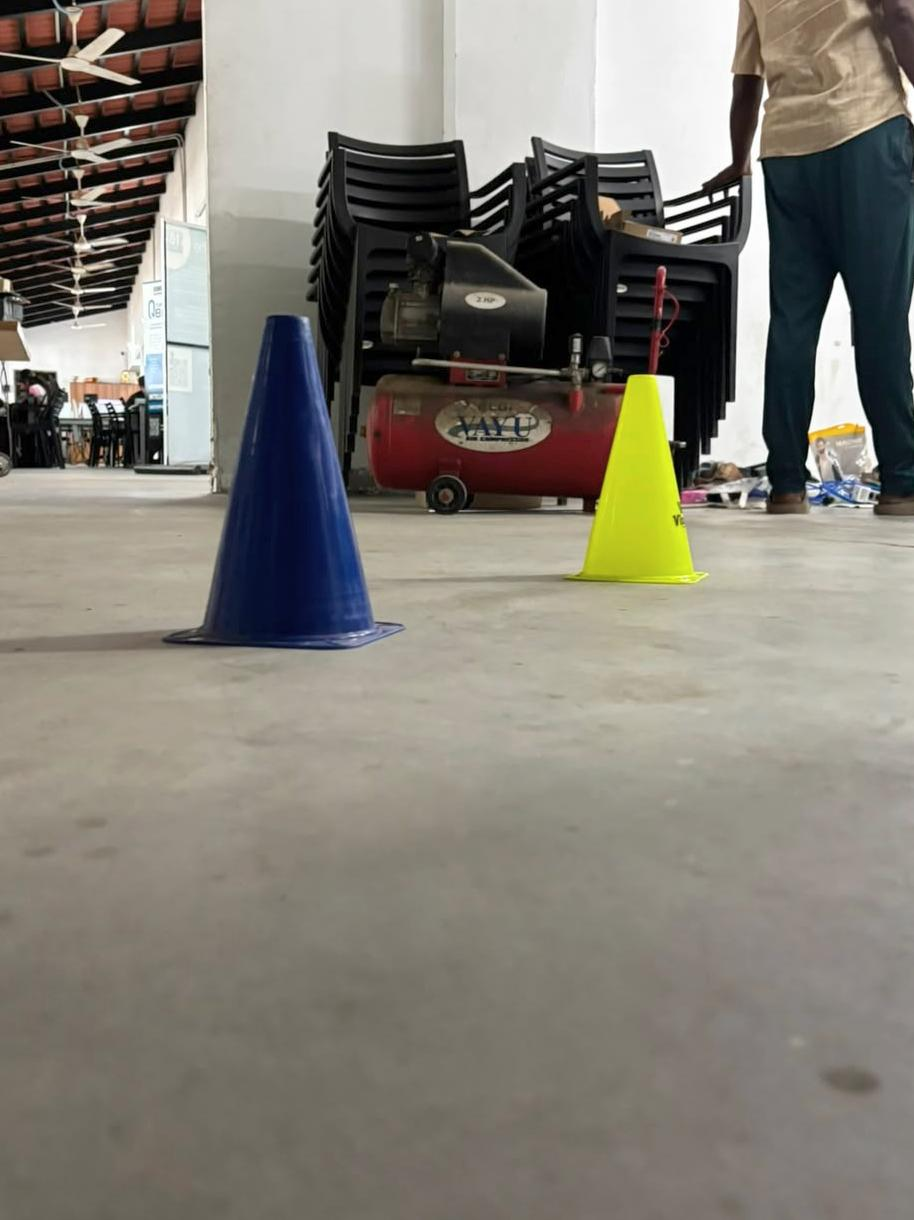0 cone: (166, 315, 403, 648), (569, 375, 706, 585)
